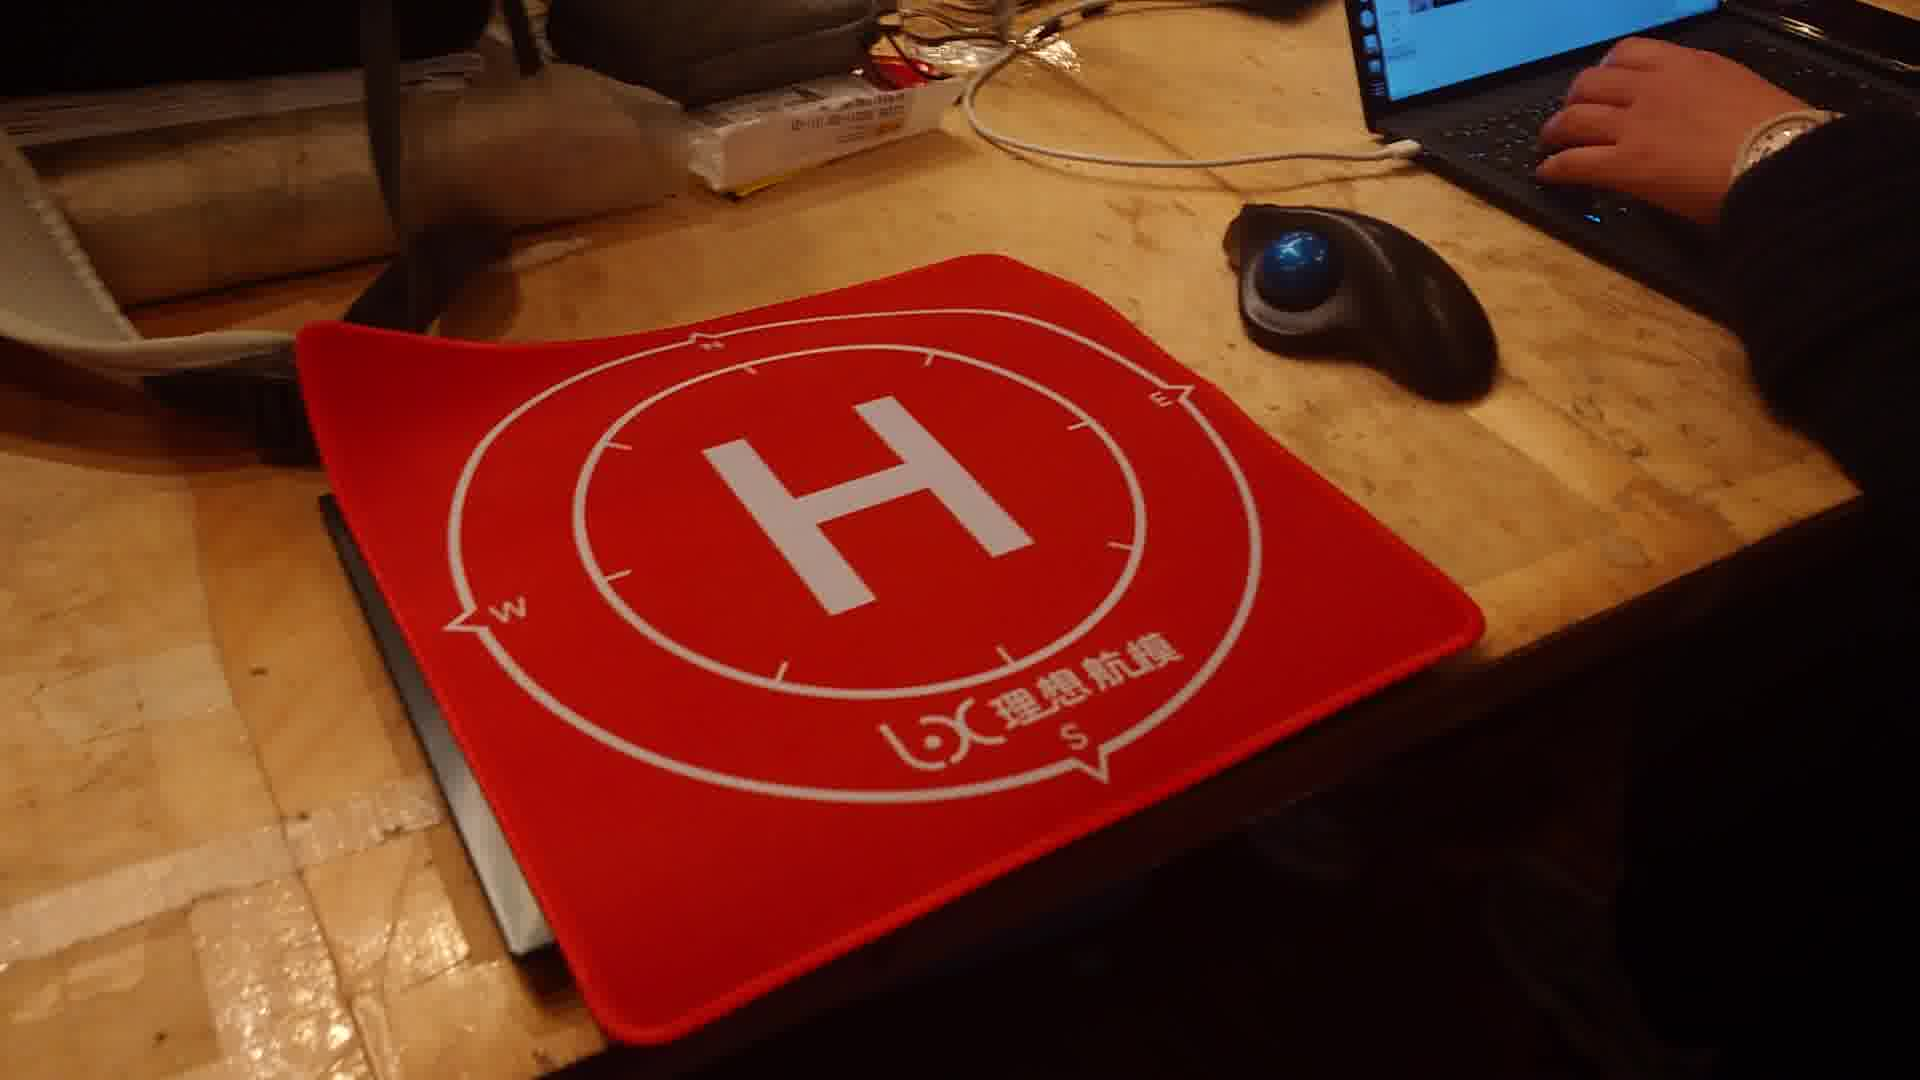H: (703, 393, 1038, 621)
